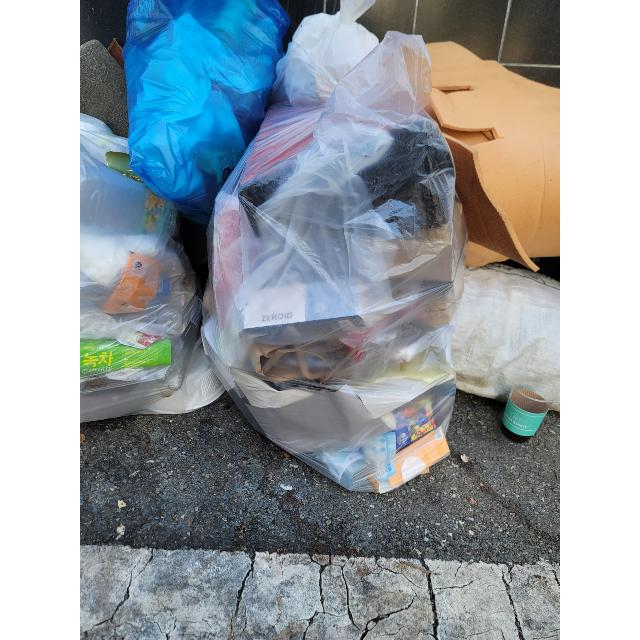other_trashbag: (206, 104, 466, 494), (80, 104, 214, 421), (109, 0, 283, 197), (432, 251, 560, 398), (277, 3, 379, 109)
